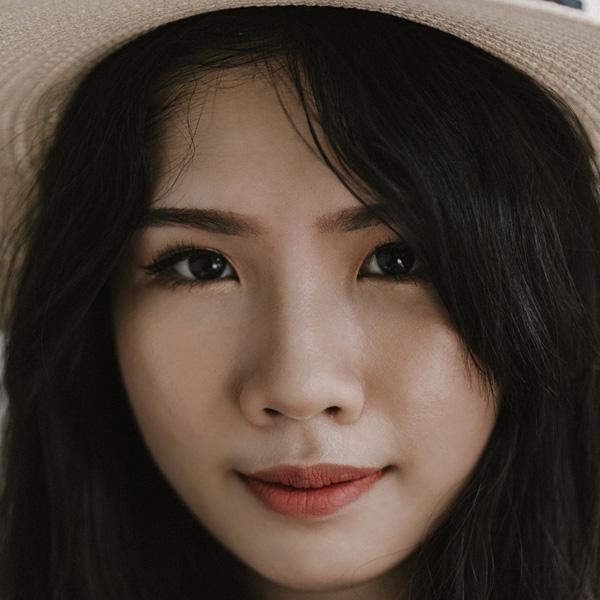Eyes: (138, 239, 252, 296), (346, 234, 447, 288)
